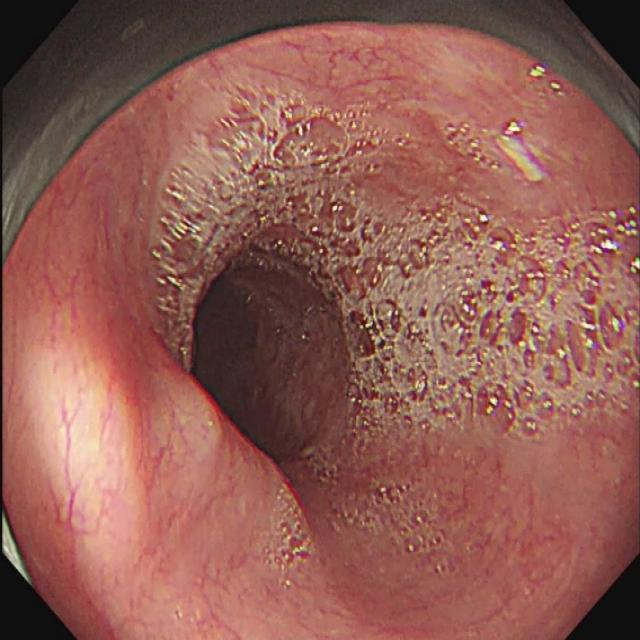E: (189, 247, 347, 468)
T: (346, 199, 640, 444), (169, 87, 412, 193), (141, 187, 209, 363), (212, 190, 345, 265), (327, 480, 452, 553), (263, 482, 315, 590), (439, 115, 500, 176)
U: (505, 124, 544, 189)
